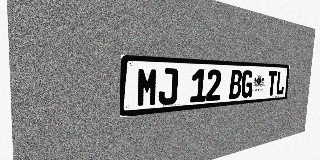1: (190, 69, 207, 103)
2: (206, 69, 222, 101)
B: (229, 70, 242, 99)
G: (241, 70, 253, 98)
J: (158, 68, 178, 105)
L: (275, 71, 285, 95)
M: (136, 67, 159, 107)
T: (267, 71, 277, 96)
